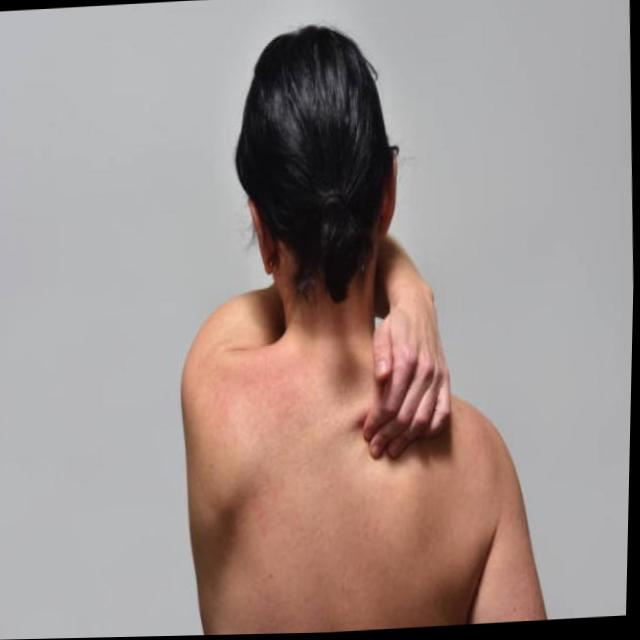no helmet: (234, 24, 416, 356)
